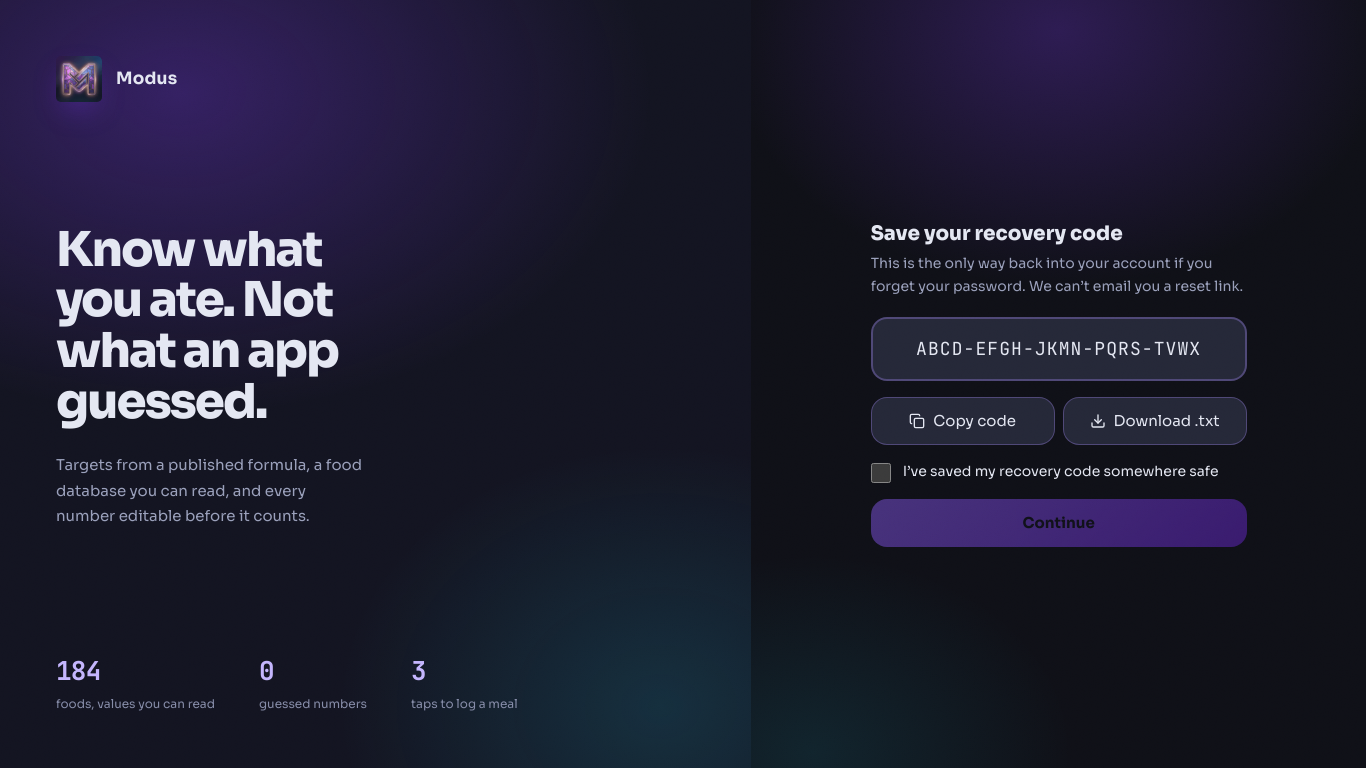
Test: RecoveryCodeScreen — shown exactly once › copies the code to the clipboard on request
Click the button "Copy code" at x=963, y=421, box [871,397,1055,445]
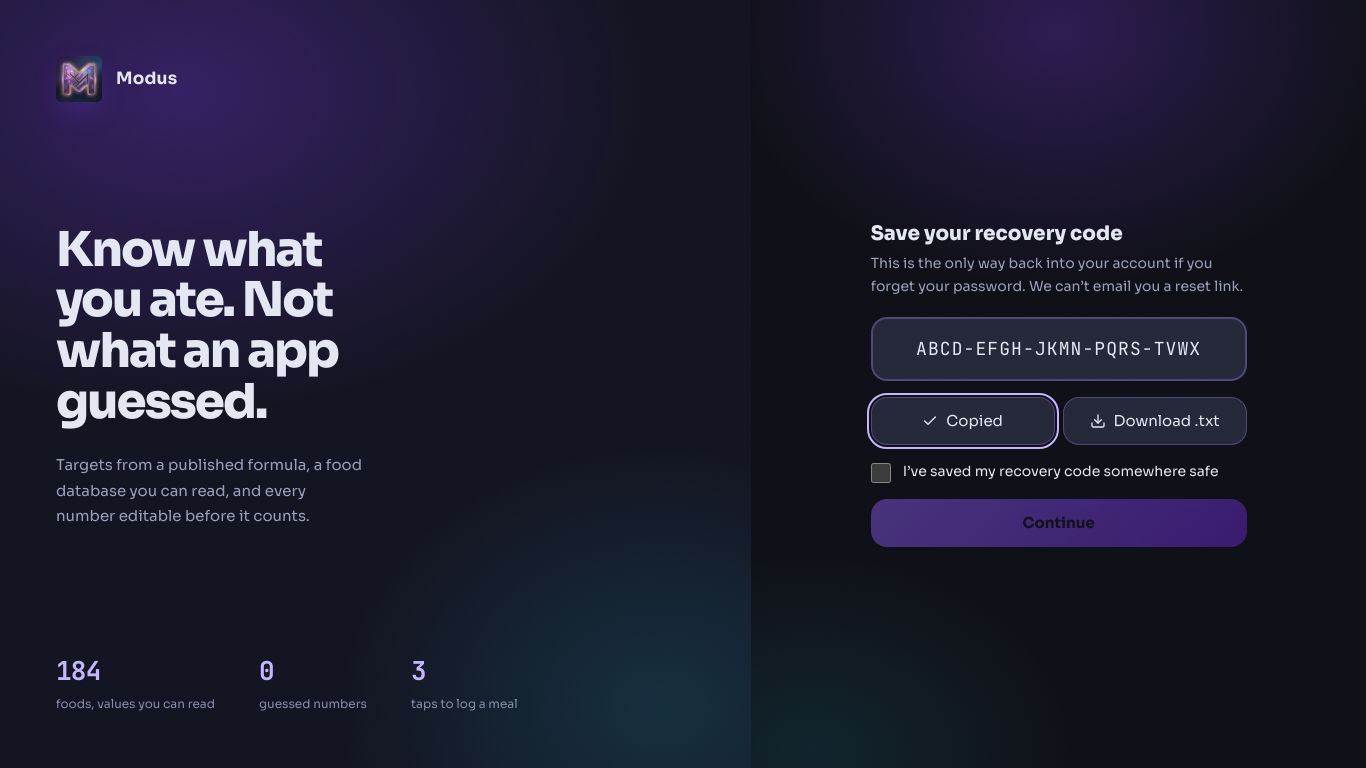
Check: the button "Copied" is shown, box [871,397,1055,445]
